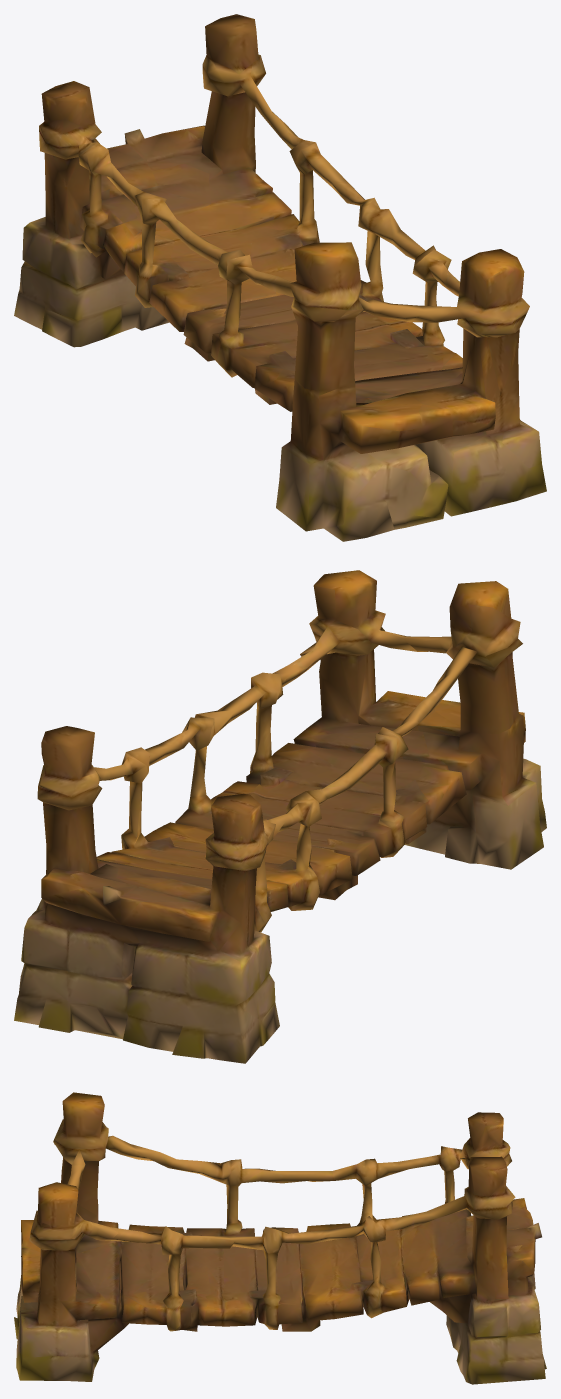
File: model-prop-plank-bridge-01.glb
3 views of the same model, one above another, from view 1: azimuth 30°, elevation 25°; view 2: azimuth 150°, elevation 25°; view 3: azimuth 270°, elevation 25° (orthographic). The views are drawn at different scales.
Visible parts, largest first — view 1: tripo_node_e3816233-f9e2-46ec-8ec9-b3bc1966f7e6; view 2: tripo_node_e3816233-f9e2-46ec-8ec9-b3bc1966f7e6; view 3: tripo_node_e3816233-f9e2-46ec-8ec9-b3bc1966f7e6.
Boxes of the visible parts, <box> form: tripo_node_e3816233-f9e2-46ec-8ec9-b3bc1966f7e6: <box>14,14,546,541</box>; tripo_node_e3816233-f9e2-46ec-8ec9-b3bc1966f7e6: <box>14,570,546,1063</box>; tripo_node_e3816233-f9e2-46ec-8ec9-b3bc1966f7e6: <box>14,1092,546,1384</box>.
Bounding box in the file's own units: 1.12 × 1.2 × 2.76.
1 material, 1 textured.
